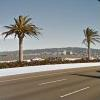Palm tree: (4, 11, 39, 67)
